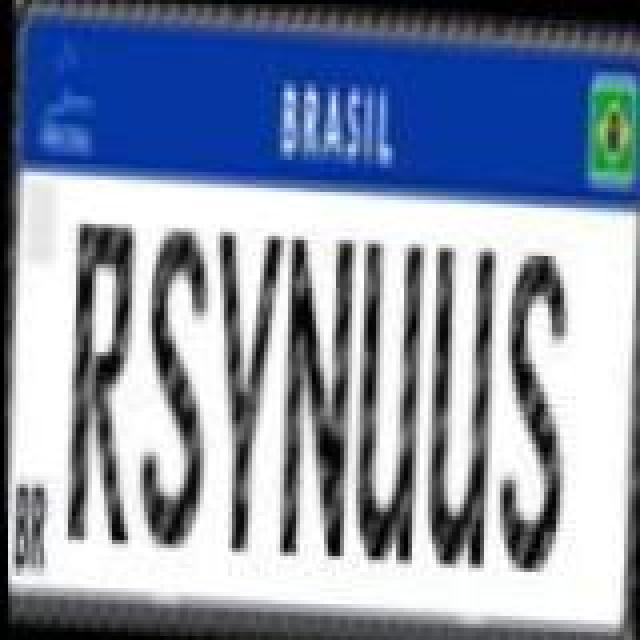N: (270, 232, 358, 560)
R: (56, 216, 140, 548)
S: (128, 222, 212, 554), (488, 244, 572, 576)
U: (346, 236, 426, 568), (418, 242, 498, 574)
Y: (200, 226, 284, 558)
